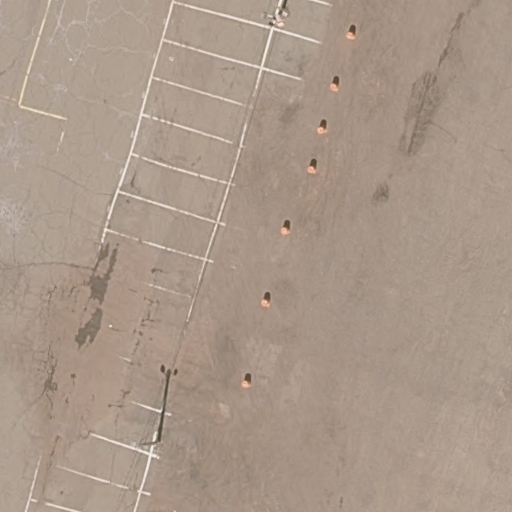DT: (134, 438, 160, 453)
